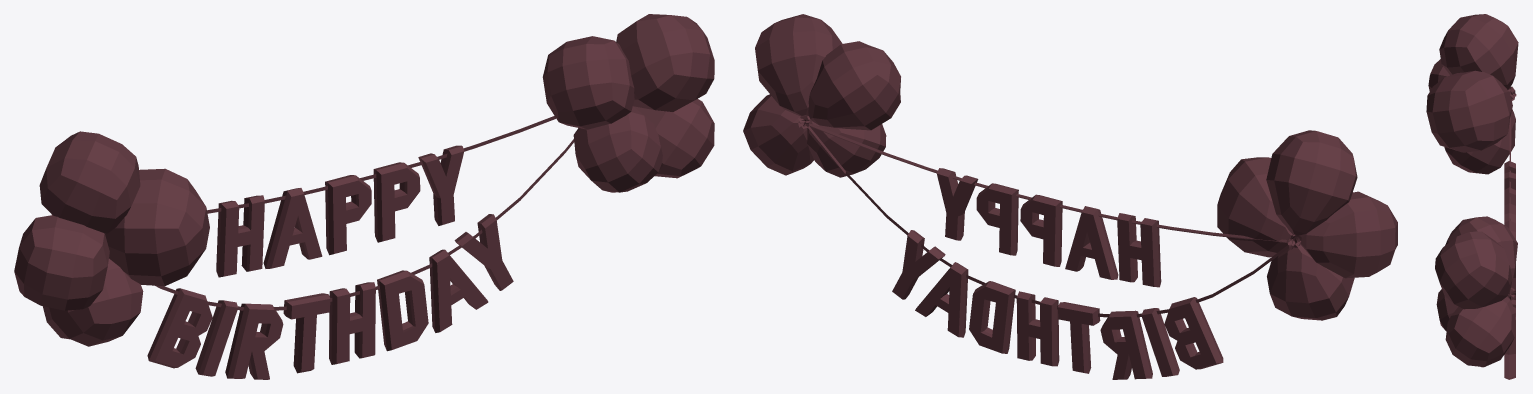
Rendered from balloons-sign-happy-birthday.fbx.
3 renders of one model, left to right at view 1: azimuth 30°, elevation 25°; view 2: azimuth 150°, elevation 25°; view 3: azimuth 270°, elevation 25°, orthographic. The views are drawn at different scales.
Parts seen in each view (by area): view 1: balloons-sign-happy-birthday; view 2: balloons-sign-happy-birthday; view 3: balloons-sign-happy-birthday.
Boxes of the visible parts, x1,y1,x2,y2 form: balloons-sign-happy-birthday: (14,14,714,379); balloons-sign-happy-birthday: (743,14,1397,379); balloons-sign-happy-birthday: (1426,14,1518,379).
Bounding box in the file's own units: 2.59 × 1.09 × 0.3934.
